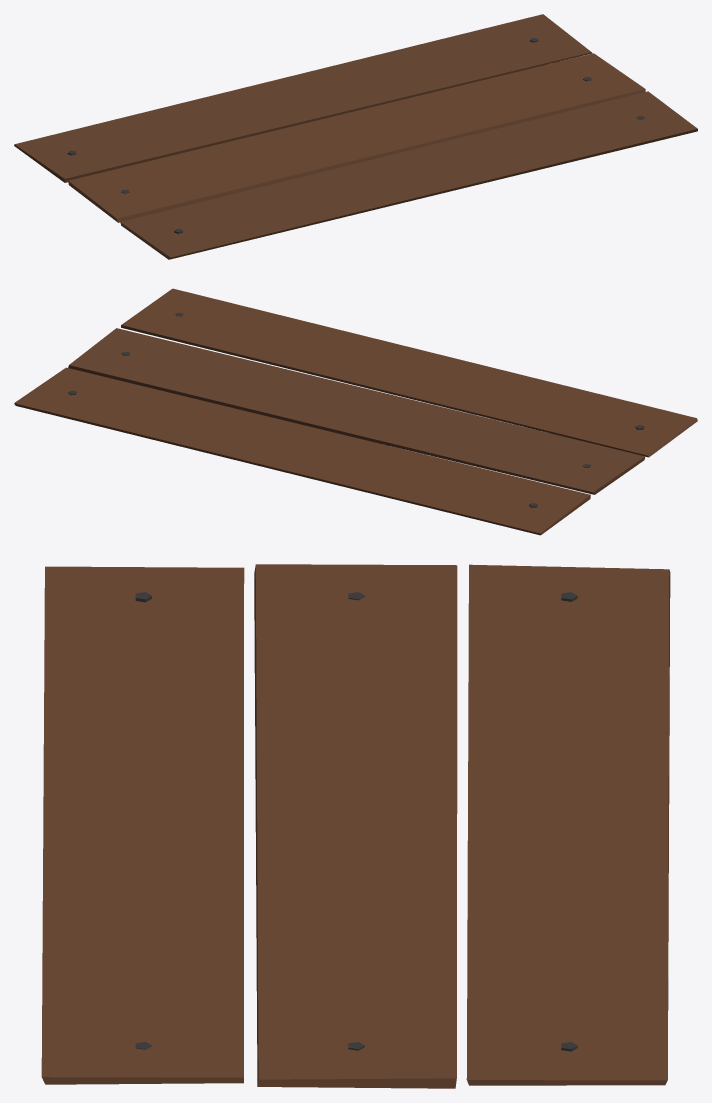
Rendered from creakyBoard.fbx.
3 views of the same model, one above another, from view 1: azimuth 30°, elevation 25°; view 2: azimuth 150°, elevation 25°; view 3: azimuth 270°, elevation 25° (orthographic). The views are drawn at different scales.
Visible parts, largest first — view 1: creakyBoard; view 2: creakyBoard; view 3: creakyBoard.
Boxes of the visible parts, x1=… form: creakyBoard: x1=14, y1=14, x2=697, y2=259; creakyBoard: x1=14, y1=288, x2=697, y2=535; creakyBoard: x1=41, y1=564, x2=670, y2=1088.
Size of the model in its own units: 3.21 by 0.0315 by 1.65.
